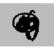not correct: (6, 9, 46, 44)
